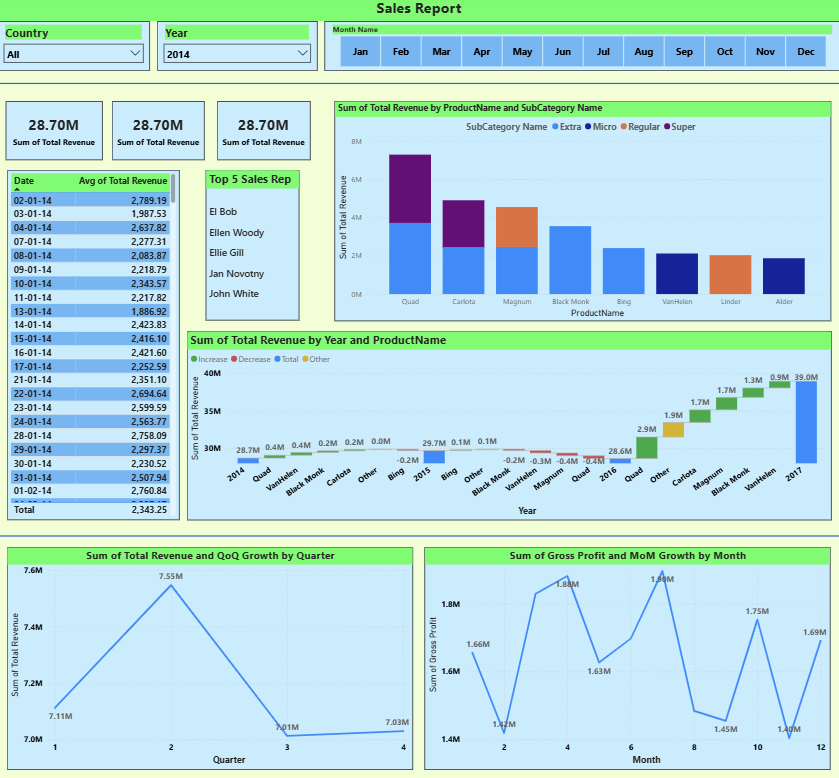

The dashboard page shown, as its layout file describes it:
{"tool":"powerbi","page":{"name":"Page 1","canvas":[1400,1300],"ordinal":0},"visuals":[{"type":"textbox","box":[0,0,1400.3,43.2],"z":0},{"type":"slicer","fields":{"Values":["DateMaster.Year"]},"box":[266,43.2,266,82.4],"z":1000},{"type":"slicer","fields":{"Values":["Geography.Country"]},"box":[0,43.2,253.9,82.4],"z":2000},{"type":"slicer","fields":{"Values":["DateMaster.Month Name"]},"box":[544.2,43.2,856.1,82.4],"z":3000},{"type":"shape","box":[0,125.6,1400.3,40.5],"z":4000},{"type":"card","fields":{"Values":["Sum(sales.Total Revenue)"]},"box":[14.9,175.5,160.7,97.2],"z":5000},{"type":"card","fields":{"Values":["Sum(sales.Total Revenue)"]},"box":[191.7,175.5,153.9,97.2],"z":6000},{"type":"card","fields":{"Values":["Sum(sales.Total Revenue)"]},"box":[365.9,175.5,155.3,97.2],"z":7000},{"type":"cardVisual","title":"Top 5 Sales Rep","fields":{"Rows":["SalesRep.Sales Rep Name"],"Data":["Sum(sales.Gross Profit)"]},"box":[345.7,290.3,155.3,249.8],"z":8000},{"type":"waterfallChart","fields":{"Category":["DateMaster.Year"],"Breakdown":["Product.ProductName"],"Y":["Sum(sales.Total Revenue)"]},"box":[314.6,557.7,1069.4,313.3],"z":9000},{"type":"columnChart","fields":{"Category":["Product.ProductName"],"Y":["Sum(sales.Total Revenue)"],"Series":["SubCategory.SubCategory Name"]},"box":[560.4,175.5,823.7,364.6],"z":10000},{"type":"shape","box":[0,880.4,1400.3,36.5],"z":11000},{"type":"lineChart","fields":{"Category":["DateMaster.Quarter"],"Y":["Sum(sales.Total Revenue)"]},"box":[16.2,916.9,673.8,368.6],"z":12000},{"type":"lineChart","fields":{"Category":["DateMaster.Month"],"Y":["Sum(sales.Gross Profit)"]},"box":[710.3,916.9,673.8,368.6],"z":13000},{"type":"tableEx","fields":{"Values":["sales.Date","Avg(sales.Total Revenue)"]},"box":[16.2,290.3,286.3,580.6],"z":14000}]}

Visuals, with their boxes in screenshot pixels (x1, y1, x2, y2), scaled from the page's 1400x1300 canvas onto the 839x778 screenshot:
textbox: box=[0, 0, 838, 26]
slicer - DateMaster.Year: box=[159, 26, 319, 75]
slicer - Geography.Country: box=[0, 26, 152, 75]
slicer - DateMaster.Month Name: box=[326, 26, 838, 75]
shape: box=[0, 75, 838, 99]
card - Sum(sales.Total Revenue): box=[9, 105, 105, 163]
card - Sum(sales.Total Revenue): box=[115, 105, 207, 163]
card - Sum(sales.Total Revenue): box=[219, 105, 312, 163]
"Top 5 Sales Rep" cardVisual: box=[207, 174, 300, 323]
waterfallChart - DateMaster.Year x Product.ProductName: box=[189, 334, 829, 521]
columnChart - Product.ProductName x Sum(sales.Total Revenue): box=[336, 105, 829, 323]
shape: box=[0, 527, 838, 549]
lineChart - DateMaster.Quarter x Sum(sales.Total Revenue): box=[10, 549, 414, 769]
lineChart - DateMaster.Month x Sum(sales.Gross Profit): box=[426, 549, 829, 769]
tableEx - sales.Date x Avg(sales.Total Revenue): box=[10, 174, 181, 521]
